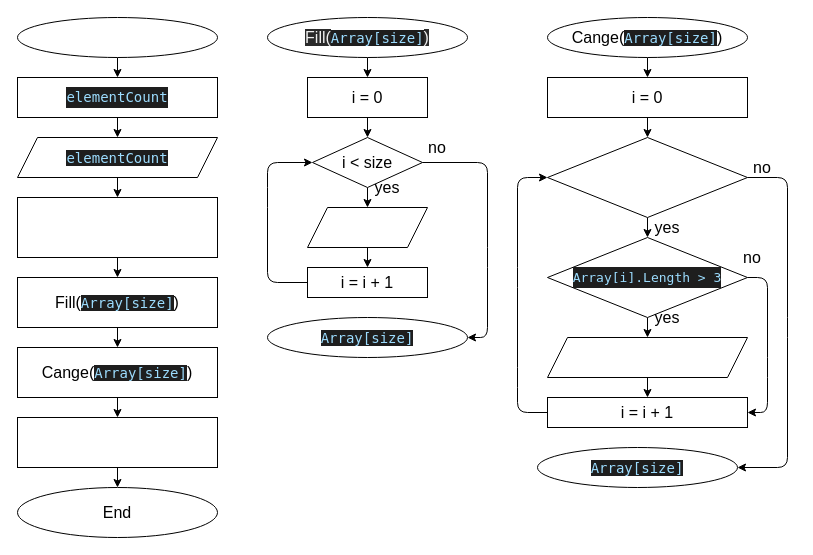
The diagram is 813 pixels wide and 555 high, and some of its shapes have lost their labels. Each missing label, with the centre of its shape:
"Array[i]" belongs at [367,227].
"Array[i] = string.Empty" belongs at [647,357].
"Begin" belongs at [117,37].
"i < Arryay.Length" belongs at [647,177].
"Print( Array[size] )" belongs at [117,442].
"size = elementCount Array[size]" belongs at [117,227].
